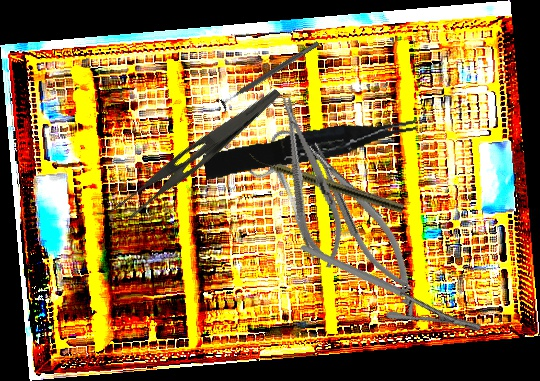Dressing Forceps: (109, 71, 282, 232)
Fixation Ring: (215, 35, 324, 115)
Handpiece: (246, 152, 405, 214)
Iris Scissors: (238, 125, 346, 274)
Needle Holder: (299, 195, 485, 380), (300, 131, 423, 302), (266, 90, 354, 274)
Tissue Forceps: (201, 115, 420, 180)
